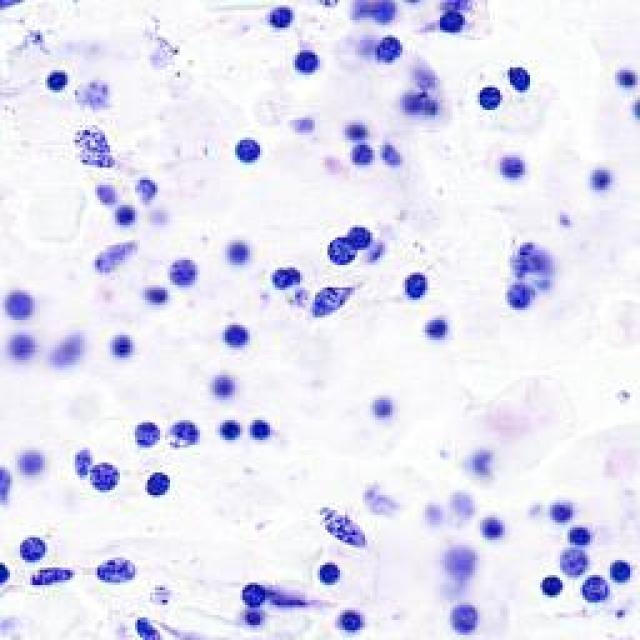cell: (487, 229, 552, 275), (213, 128, 266, 172), (93, 540, 136, 582), (38, 54, 74, 100), (165, 254, 208, 292), (400, 84, 444, 120), (122, 174, 174, 203), (204, 371, 253, 401), (466, 446, 502, 486), (15, 525, 54, 561), (314, 282, 354, 317), (492, 153, 537, 181), (447, 601, 484, 635), (121, 616, 172, 640), (506, 62, 543, 94), (313, 236, 358, 262), (95, 453, 124, 493), (467, 84, 502, 115), (578, 575, 610, 608), (61, 443, 91, 478), (498, 283, 538, 308), (373, 34, 406, 64), (348, 221, 379, 252), (445, 548, 481, 574), (213, 418, 246, 446), (331, 123, 382, 141), (369, 400, 406, 424), (308, 561, 348, 583), (28, 568, 72, 588), (289, 114, 318, 144), (292, 49, 324, 76), (170, 421, 199, 450), (262, 4, 302, 25), (20, 446, 44, 481), (9, 333, 36, 364), (607, 552, 633, 584), (222, 321, 255, 346), (402, 270, 432, 297), (141, 470, 171, 497), (532, 569, 562, 596), (10, 289, 33, 324), (418, 321, 453, 344), (108, 336, 137, 363), (80, 180, 119, 200), (586, 166, 617, 191), (218, 229, 244, 258), (236, 610, 274, 629), (338, 606, 362, 636), (102, 206, 146, 222), (607, 68, 640, 89), (560, 552, 588, 576), (274, 262, 296, 292), (236, 586, 272, 604), (51, 350, 78, 373), (421, 502, 444, 529), (349, 148, 377, 170), (133, 418, 155, 445), (382, 148, 410, 169), (150, 586, 179, 606), (481, 508, 503, 534), (445, 10, 466, 33), (256, 416, 272, 446), (552, 502, 578, 520), (565, 533, 590, 546), (2, 554, 12, 586), (145, 288, 164, 304)
